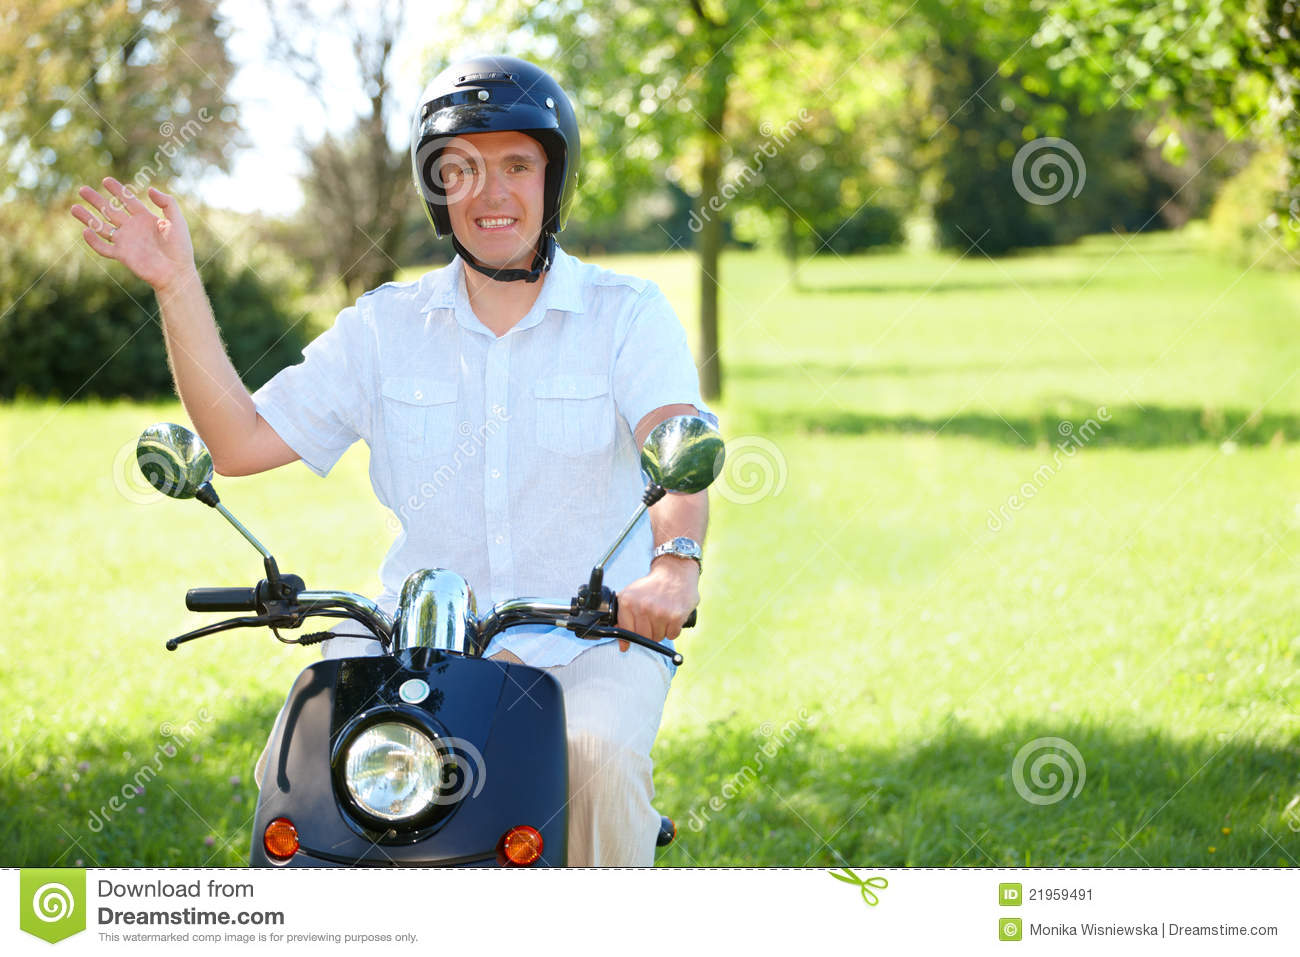helmet: (412, 58, 579, 242)
